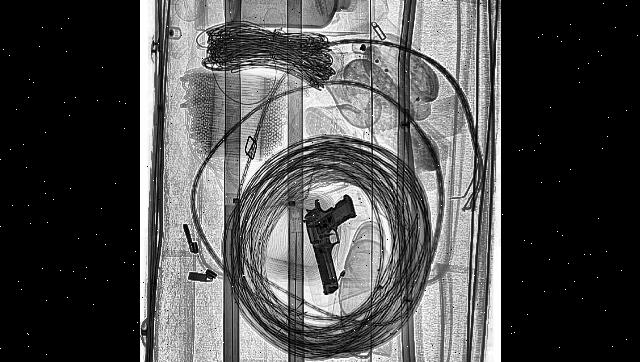Gun: (302, 177, 366, 305)
